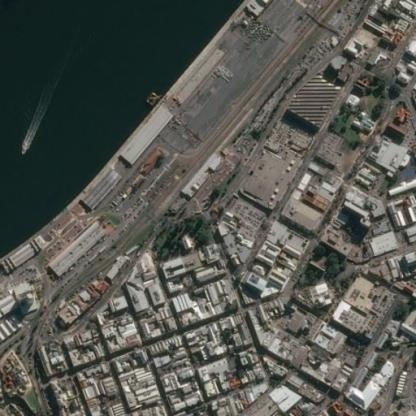ship: (14, 137, 33, 157)
